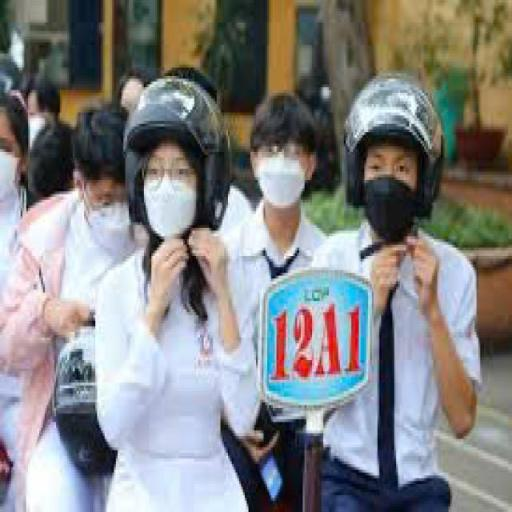with helmet: (120, 74, 232, 228), (340, 72, 442, 212)
